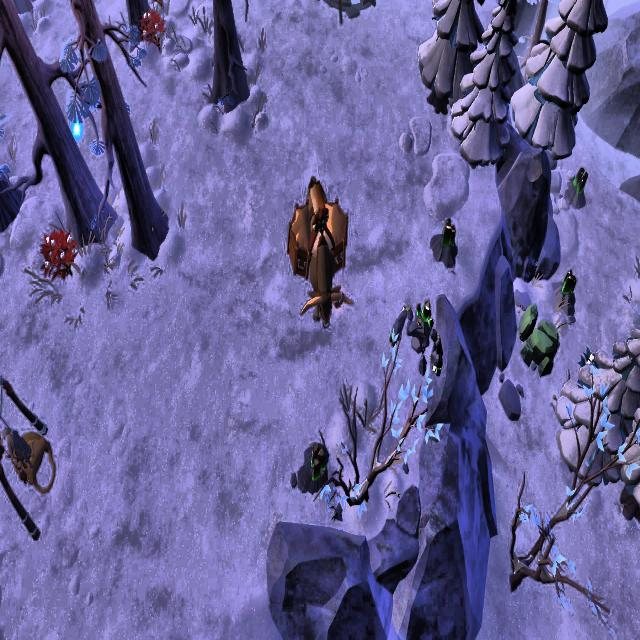fiber_t5: (41, 228, 76, 282), (139, 11, 167, 55)
ore_t3: (306, 439, 324, 482), (570, 162, 588, 198), (438, 218, 456, 251), (561, 264, 577, 300)
rock_t3: (514, 301, 561, 374)
